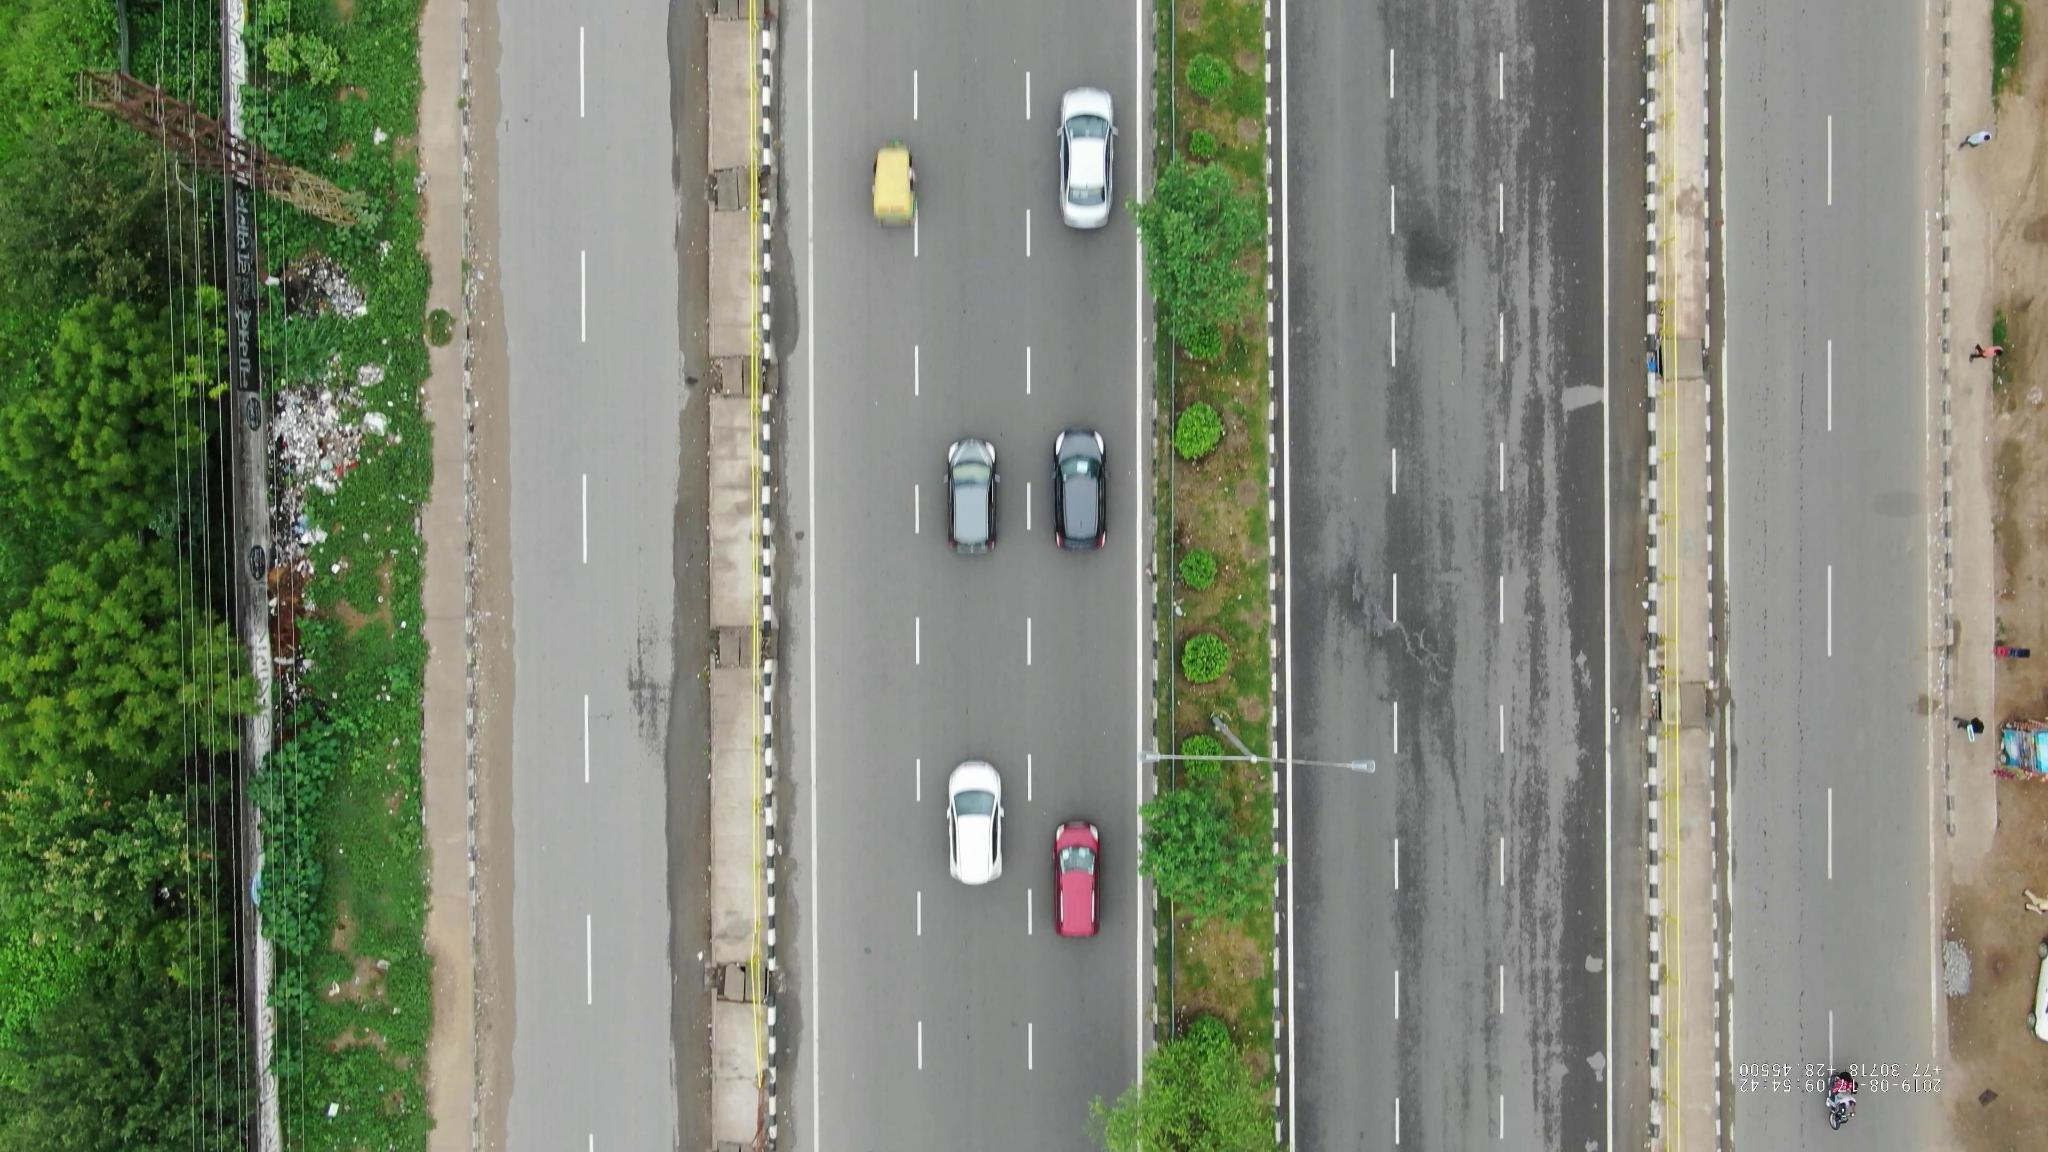Muddy_road: (466, 13, 519, 646), (464, 660, 525, 1106), (1926, 900, 1996, 1054)
Road_side_garbage: (269, 279, 415, 515)
